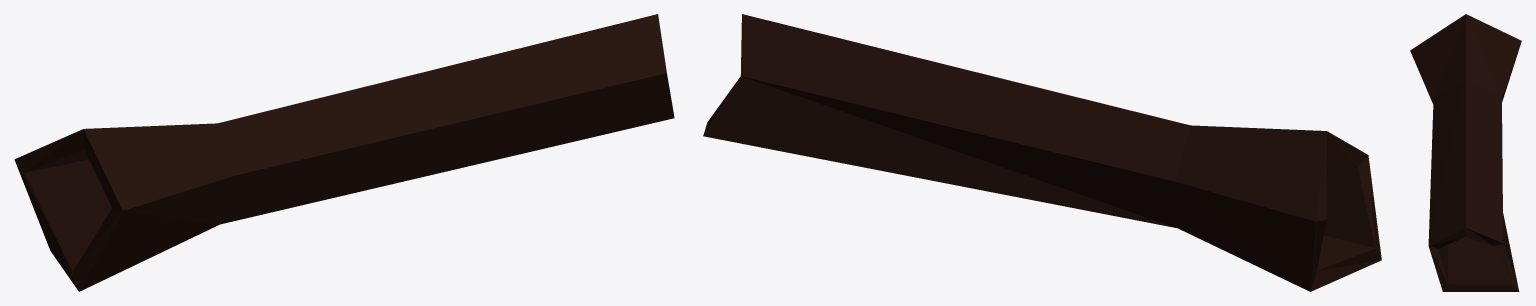
Rendered from Trunk_01.obj.
The picture shows the model from 3 angles, left to right: view 1: azimuth 30°, elevation 25°; view 2: azimuth 150°, elevation 25°; view 3: azimuth 270°, elevation 25°; orthographic projection. The views are drawn at different scales.
Parts seen in each view (by area): view 1: Trunk_01_Circle; view 2: Trunk_01_Circle; view 3: Trunk_01_Circle.
Boxes of the visible parts, bbox=[...] form: Trunk_01_Circle: bbox=[14, 14, 674, 291]; Trunk_01_Circle: bbox=[703, 14, 1381, 291]; Trunk_01_Circle: bbox=[1410, 14, 1521, 291].
Size of the model in its own units: 4.66 by 1.02 by 1.07.
